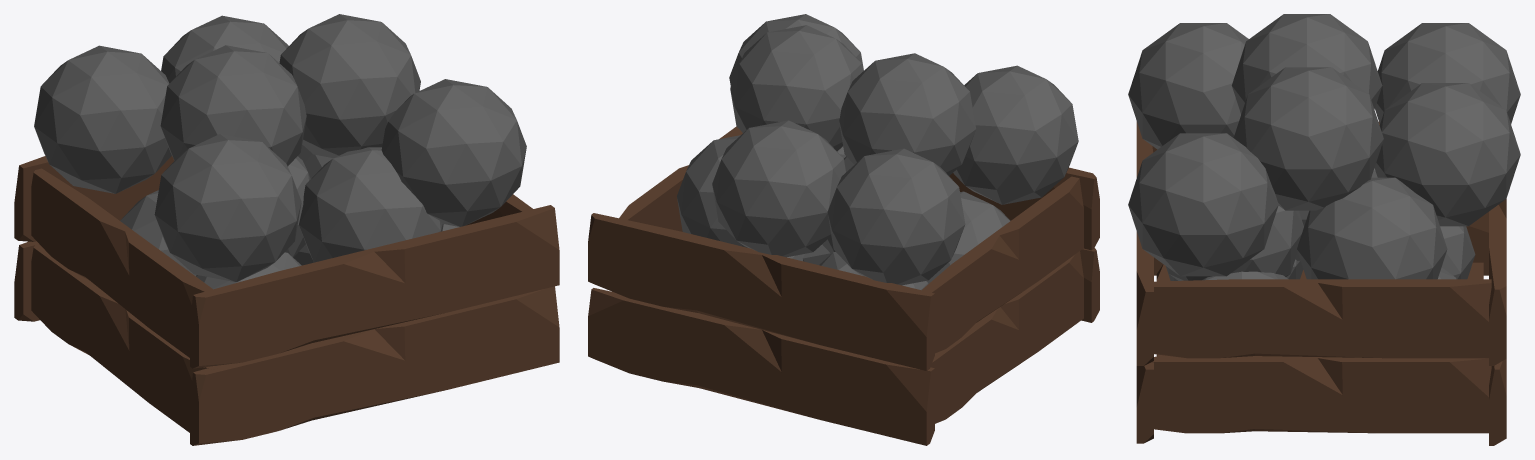
File: HighBulletBox.fbx
The picture shows the model from 3 angles, left to right: view 1: azimuth 30°, elevation 25°; view 2: azimuth 150°, elevation 25°; view 3: azimuth 270°, elevation 25°; orthographic projection. The views are drawn at different scales.
Visible parts, largest first — view 1: Bullet, WoodenBox; view 2: WoodenBox, Bullet; view 3: Bullet, WoodenBox.
Part boxes in pixels (<box>): Bullet: <box>34,14,526,365</box>; WoodenBox: <box>14,156,559,445</box>; WoodenBox: <box>588,126,1099,445</box>; Bullet: <box>677,14,1078,290</box>; Bullet: <box>1128,14,1520,280</box>; WoodenBox: <box>1136,121,1506,445</box>.
Size of the model in its own units: 205 by 170 by 193.
